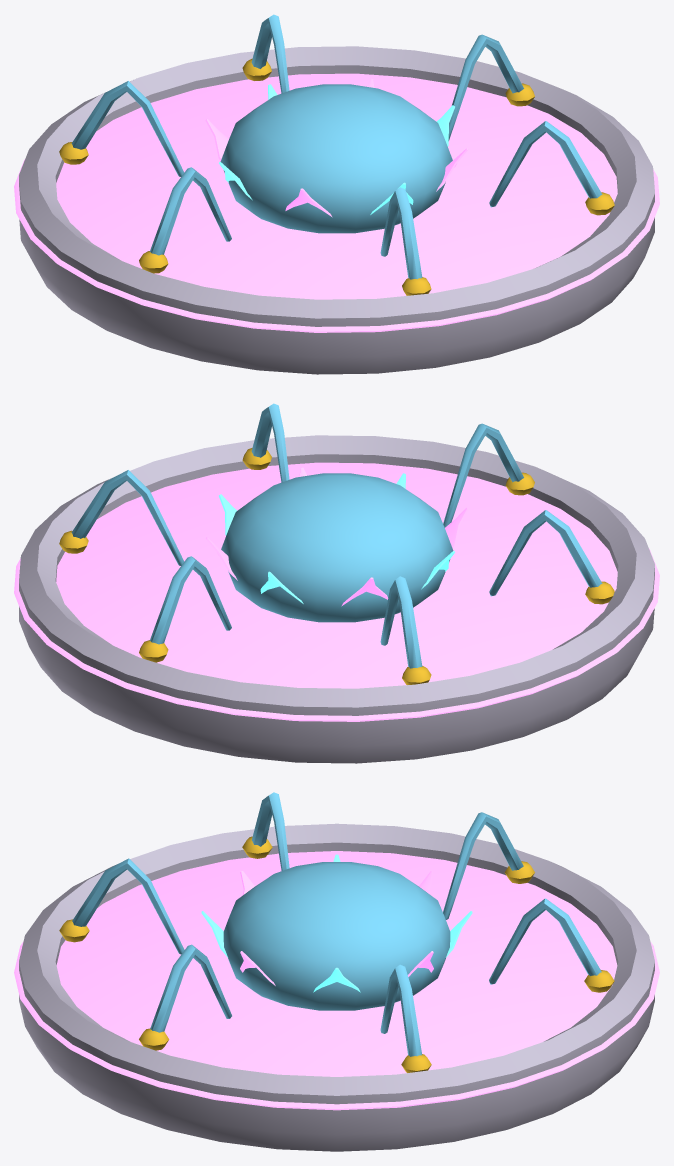
The model's file is W1_Fountain_Launch.fbx.
The picture shows the model from 3 angles, top to bottom: view 1: azimuth 30°, elevation 25°; view 2: azimuth 150°, elevation 25°; view 3: azimuth 270°, elevation 25°; orthographic projection.
Visible parts, largest first — view 1: W1_Fountain_Launch; view 2: W1_Fountain_Launch; view 3: W1_Fountain_Launch.
Part boxes in pixels (left/top/right/bottom): W1_Fountain_Launch: left=14, top=14, right=659, bottom=374; W1_Fountain_Launch: left=14, top=403, right=659, bottom=763; W1_Fountain_Launch: left=14, top=792, right=659, bottom=1151.
Size of the model in its own units: 10.56 by 2.6 by 10.56.
